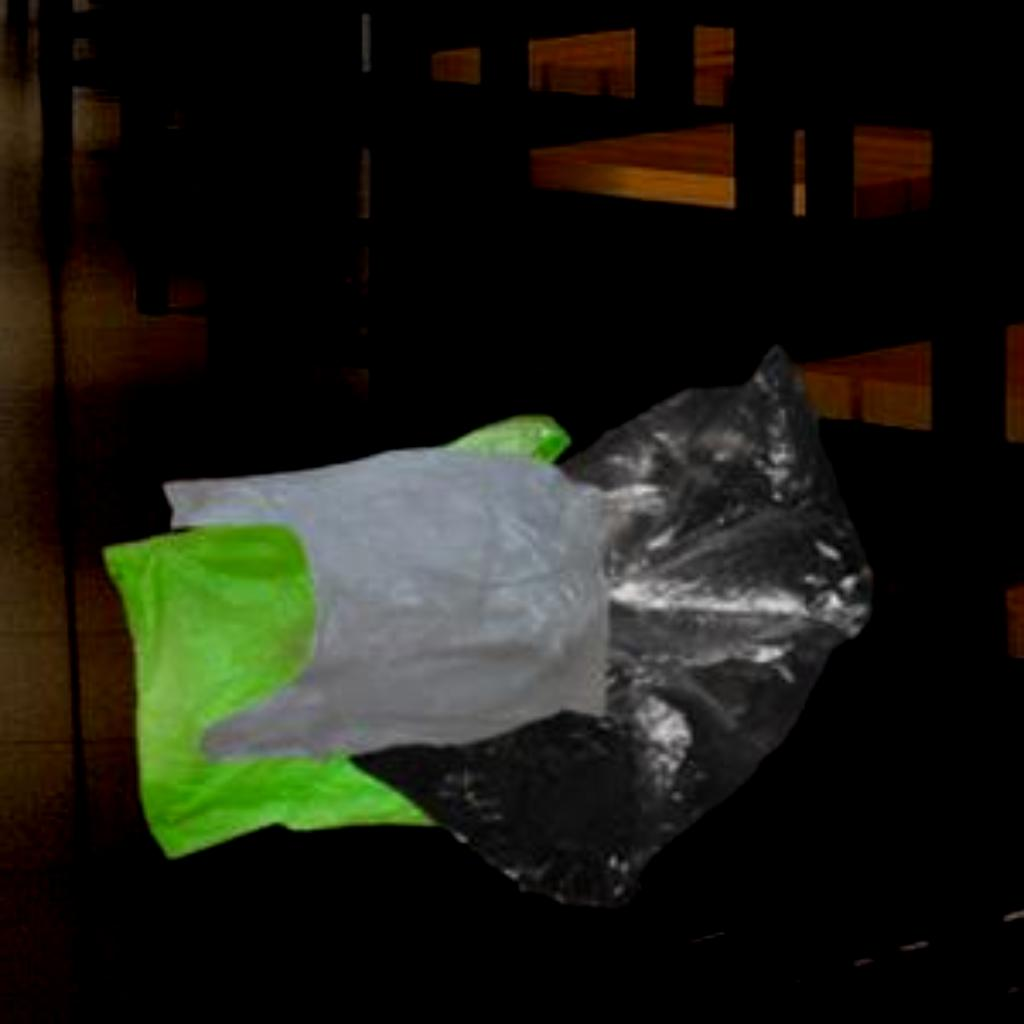garbage: (396, 326, 877, 899), (72, 399, 553, 840), (160, 404, 642, 777)
